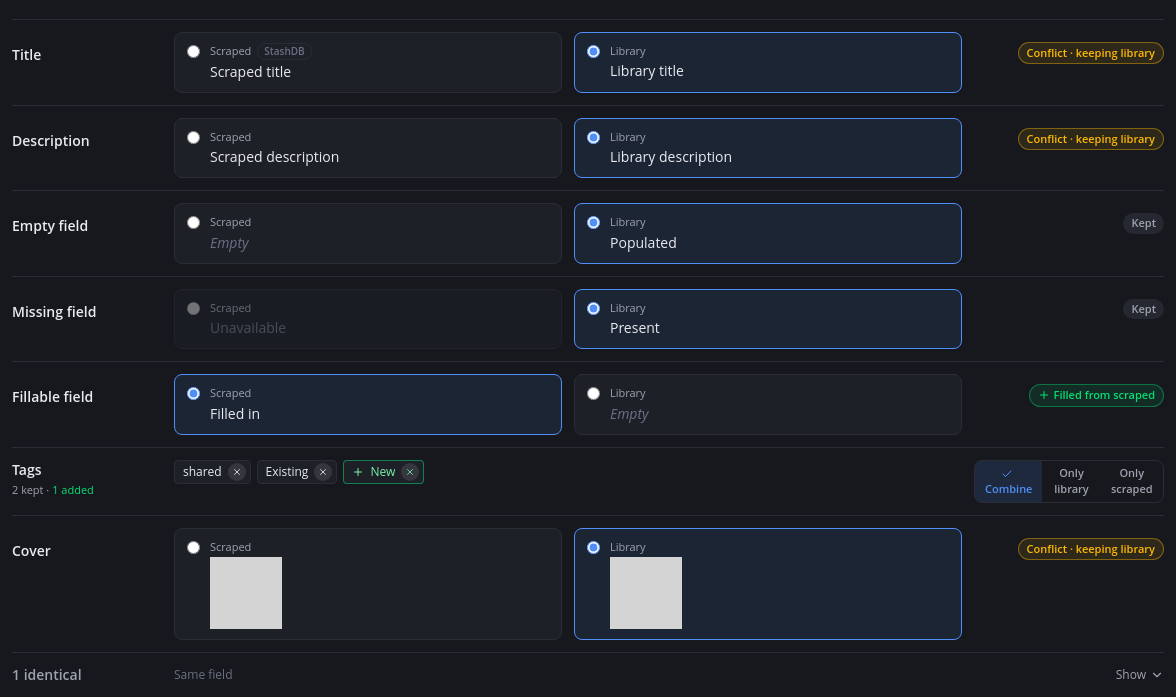
it: MetadataDiff › collapses identical fields and keeps always-visible rows
(page scrolled)
expect the element "Cover" is shown: met, box [12, 516, 1164, 653]
Click the button "1 identical Same field Show" at [51, 674], box [12, 653, 1164, 696]
(page scrolled)
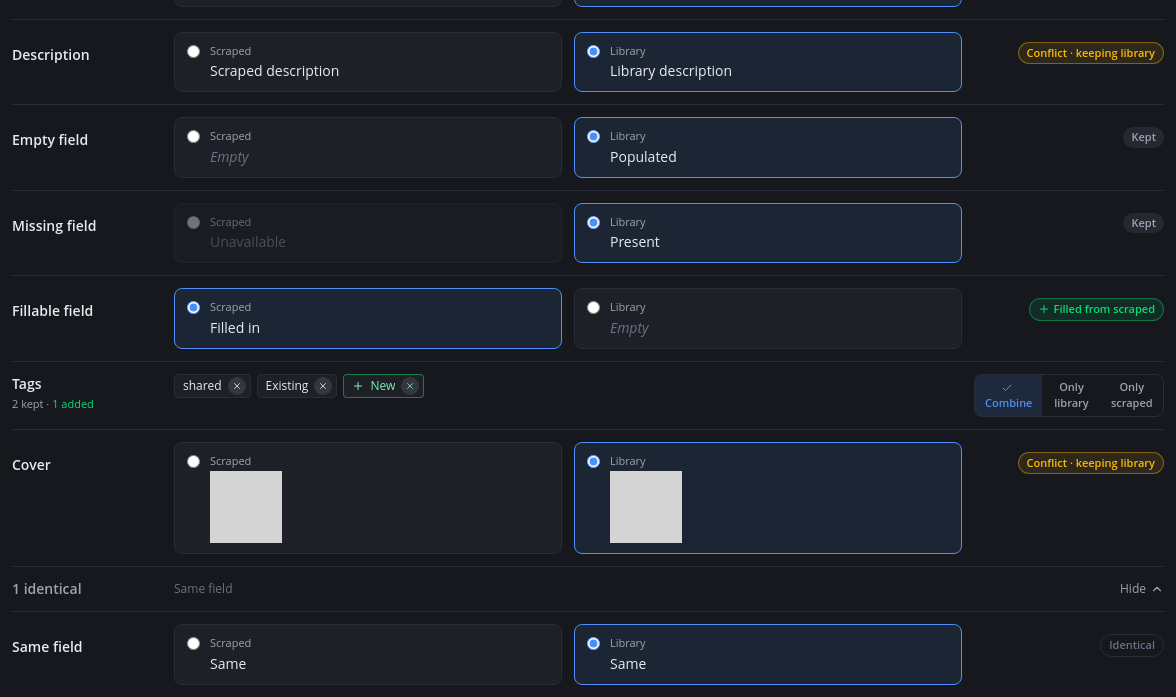
expect the element "Same field" is shown: met, box [12, 612, 1164, 696]
